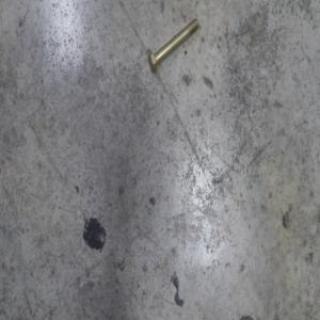Bolttrack_idkeyframe: (147, 15, 200, 72)
